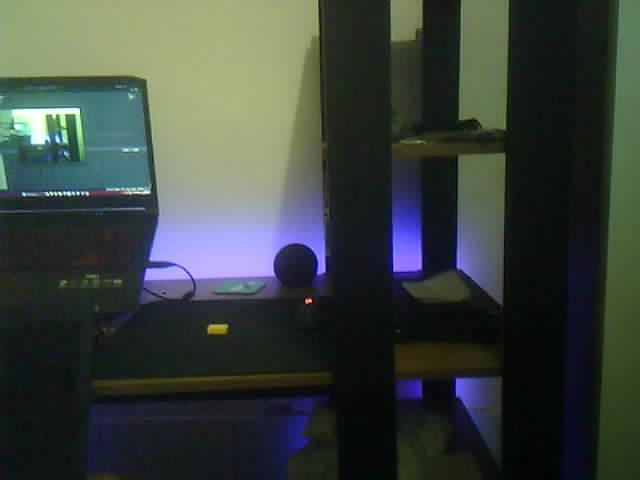lego: (207, 323, 229, 335)
